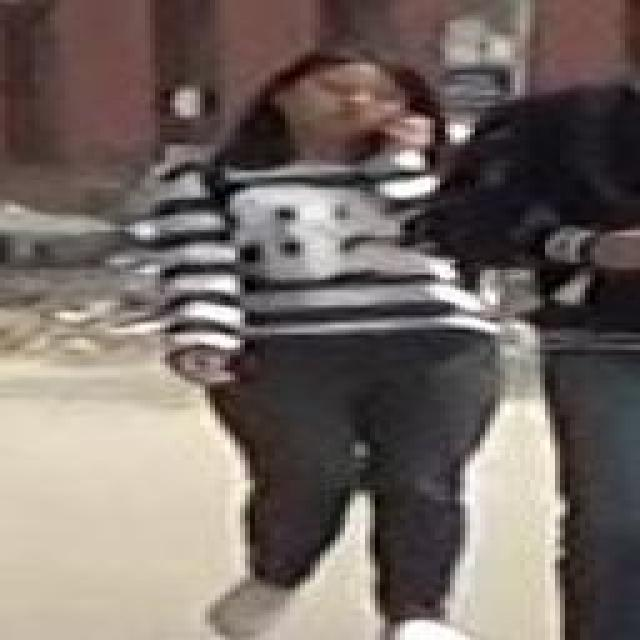adult: (148, 47, 515, 640), (434, 0, 640, 640)
